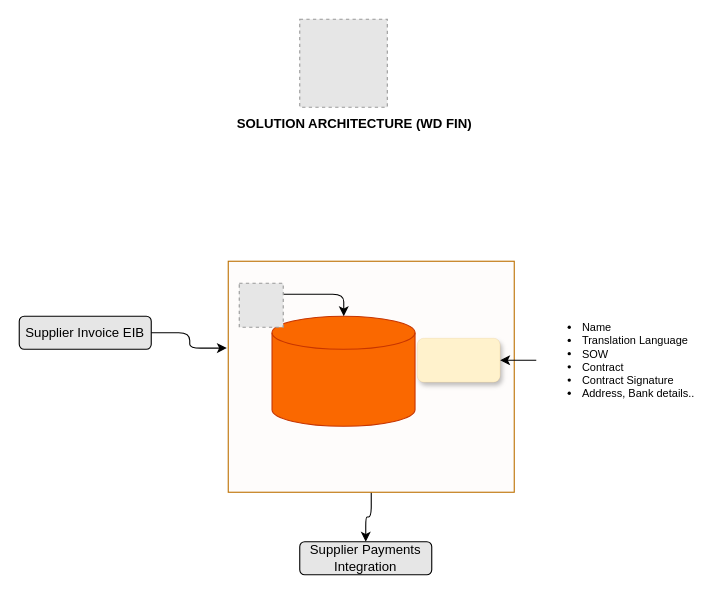
Image size: 727x594. Some labels were removed from this diagram. Grey dashed boxes stand in for pictures. Here are the shapes that lost their labels. From the top down, the centre of each, then its label:
At pixel 343 370: "Workday Finance".
At pixel 459 361: "Supplier Master Data in WD".
